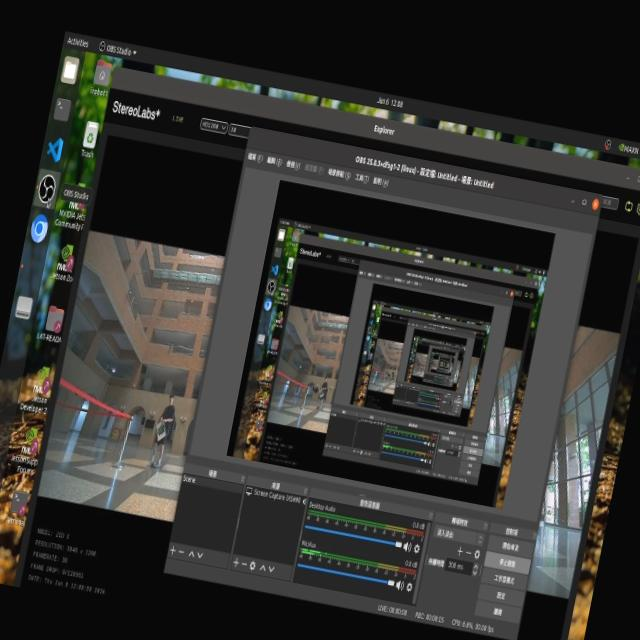green: (156, 419, 167, 437)
